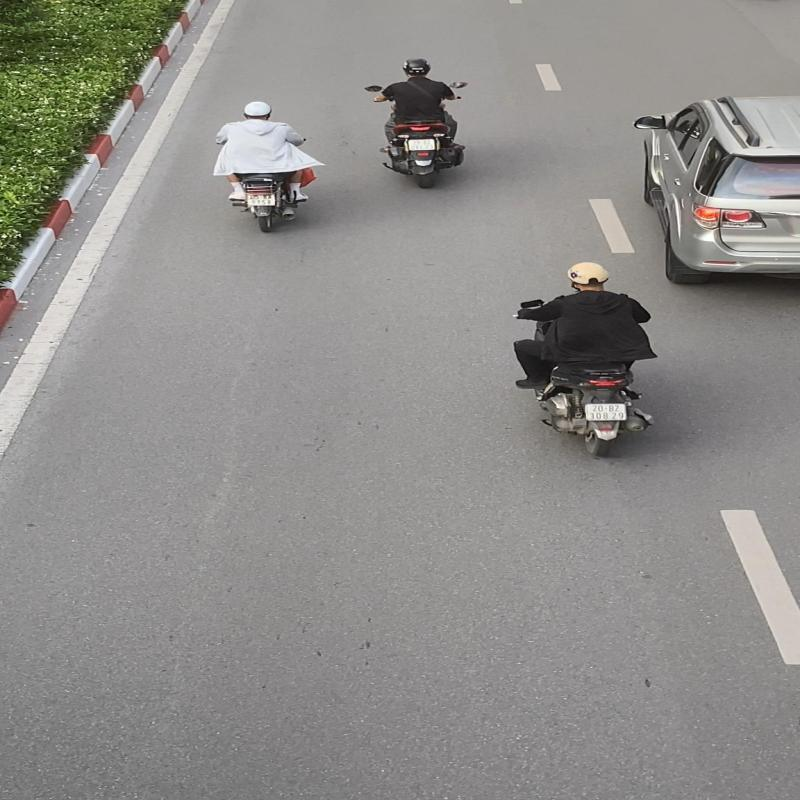helmet: (568, 260, 608, 286)
licenseplate: (583, 403, 628, 420)
motorcyclist: (505, 258, 666, 462)
